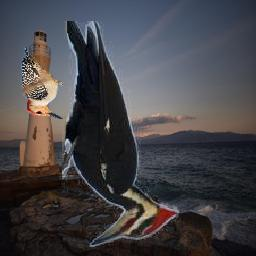Woodpecker: (63, 21, 182, 247), (21, 47, 63, 119)
